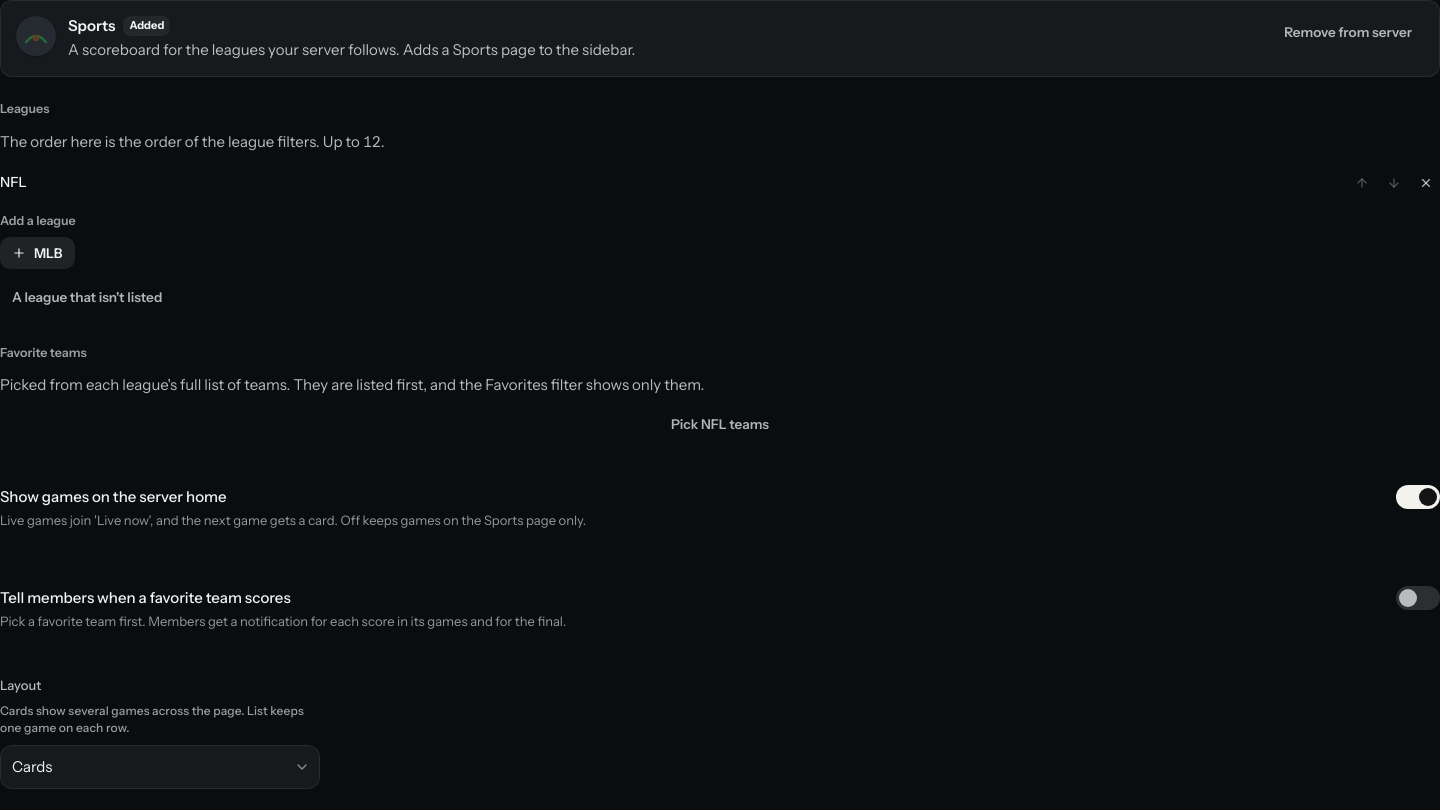
Scenario: SportsSettingsSection › asks for a league before saving an empty list
Click the button named "Remove NFL" at (1426, 183), box x1=1412 y1=169 x2=1439 y2=197
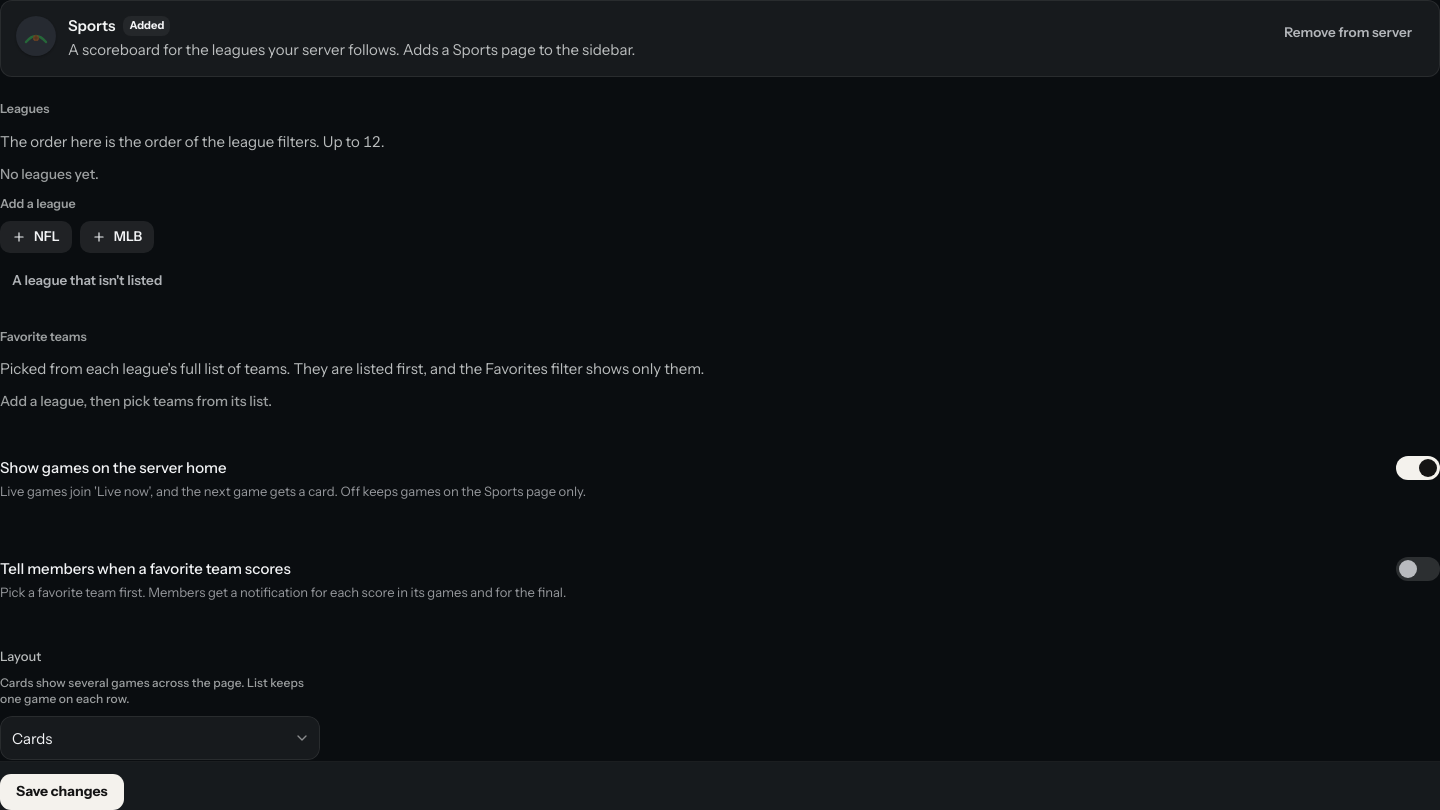
Click the button "Save changes" at (62, 792), box x1=0 y1=774 x2=124 y2=809
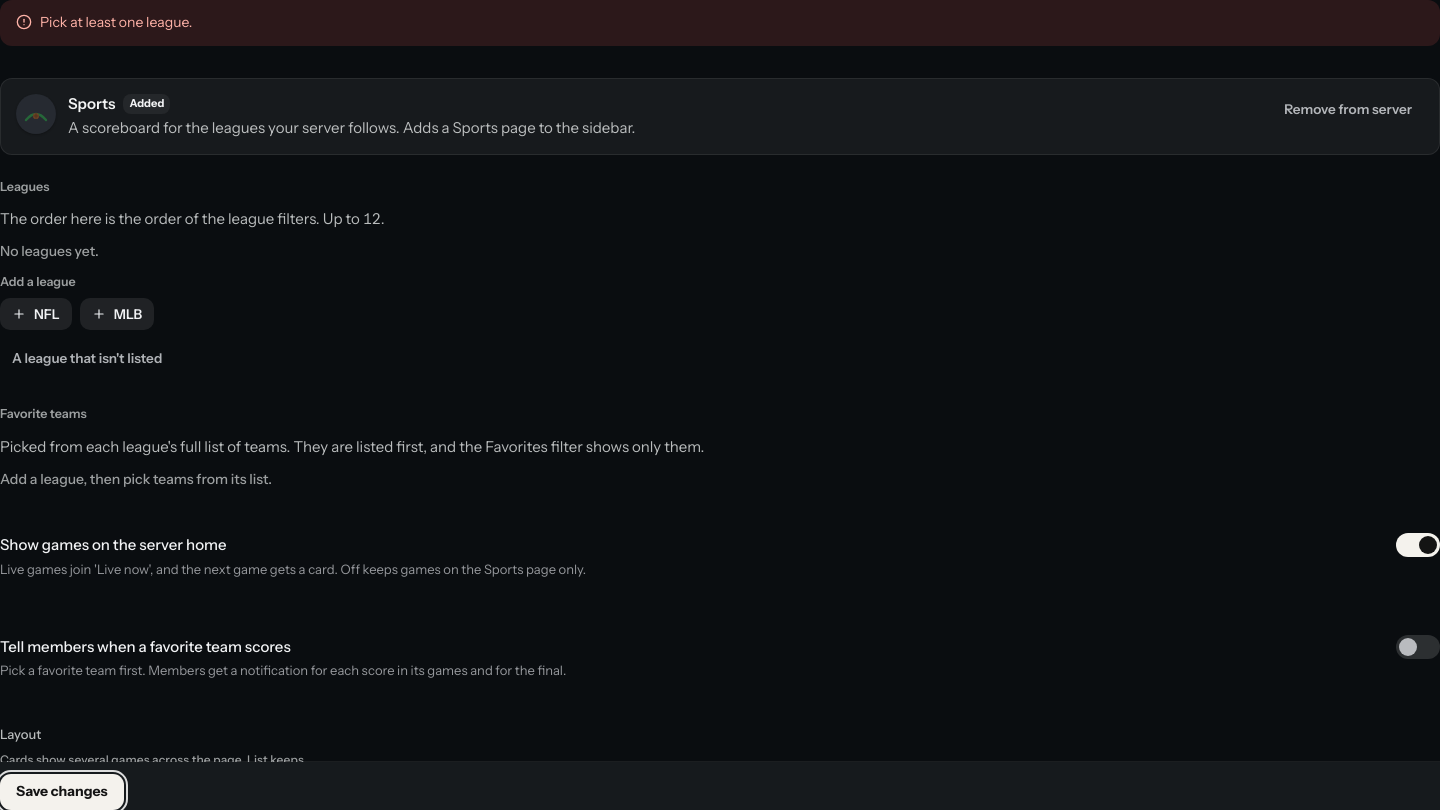
Result: the text "Pick at least one league." is shown at x1=40 y1=12 x2=192 y2=34
